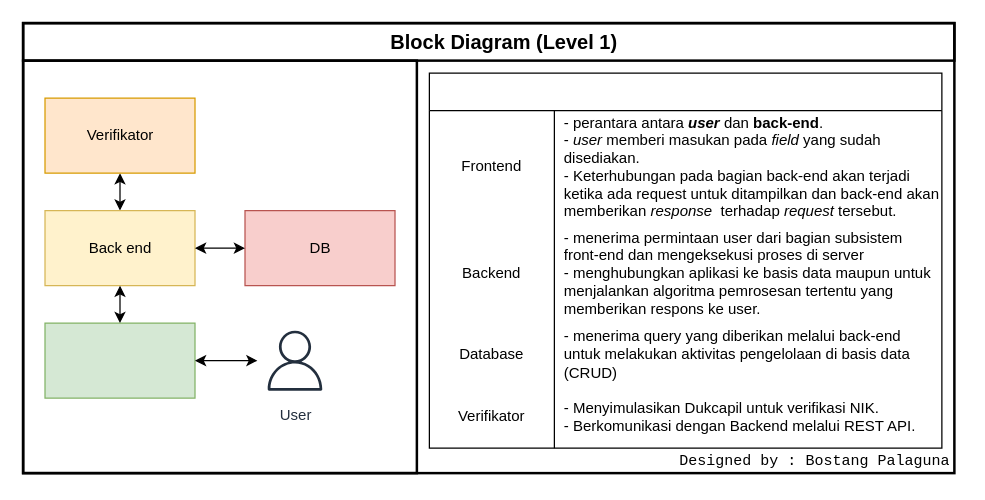
The diagram is 985 pixels wide and 500 high, and some of its shapes have lost their labels. Each missing label, with the box of its shape:
Front end: (44, 322, 195, 398)
Komponen: (428, 72, 942, 448)
